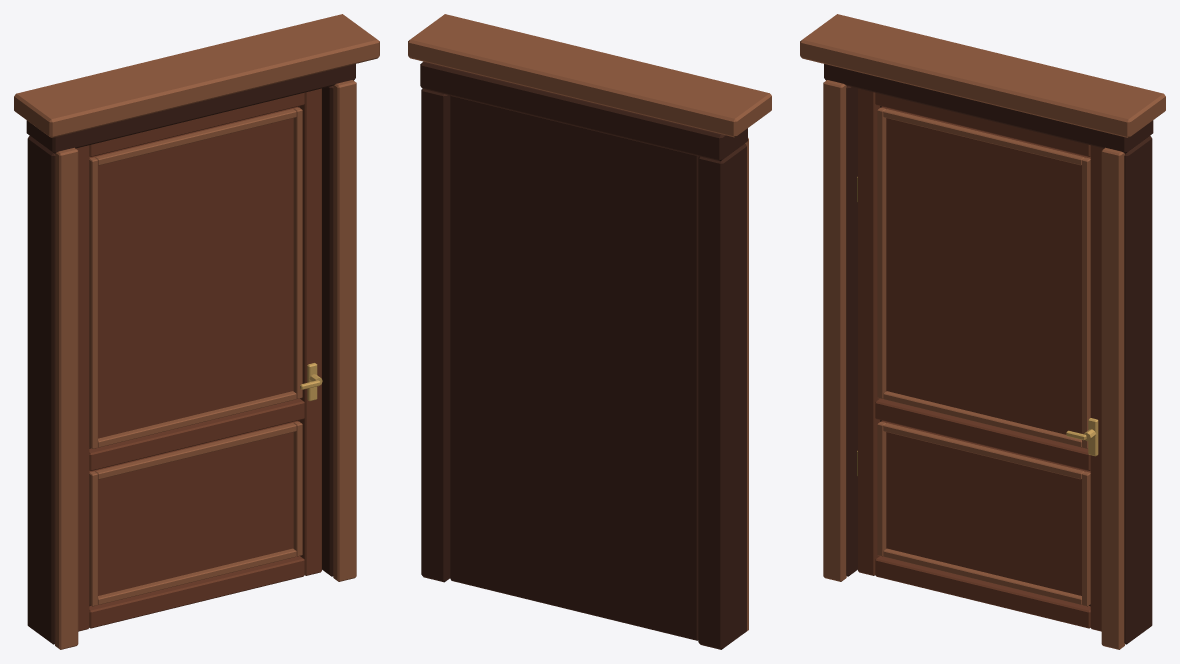
File: door_17.glb
3 views of the same model, side by side, from view 1: azimuth 30°, elevation 25°; view 2: azimuth 150°, elevation 25°; view 3: azimuth 330°, elevation 25° (orthographic).
Parts seen in each view (by area): view 1: Panel_0_1_Field, Panel_0_0_Field, Cornice, Jamb__1, Jamb_moulding_1, Jamb_moulding__1, Leaf_stile_0_1, Jamb_1, Leaf_stile_0__1, Lintel, Leaf_crossrail_0_0_88, Leaf_crossrail_0_0_048 (+9 smaller); view 2: Leaf_0, Jamb__1, Cornice, Jamb_1, Lintel, Jamb_moulding__1; view 3: Panel_0_1_Field, Panel_0_0_Field, Cornice, Jamb_1, Jamb_moulding__1, Jamb_moulding_1, Leaf_stile_0__1, Jamb__1, Leaf_stile_0_1, Lintel, Leaf_crossrail_0_0_048, Leaf_crossrail_0_0_88 (+9 smaller).
Part boxes in pixels (x1,y1,x2,y2): Panel_0_1_Field: (89, 106, 298, 438); Panel_0_0_Field: (89, 420, 298, 595); Cornice: (14, 14, 379, 137); Jamb__1: (27, 136, 55, 644); Jamb_moulding_1: (333, 80, 356, 581); Jamb_moulding__1: (55, 147, 78, 649); Leaf_stile_0_1: (300, 88, 321, 575); Jamb_1: (322, 86, 333, 576); Leaf_stile_0__1: (76, 145, 89, 631); Lintel: (26, 64, 355, 153); Leaf_crossrail_0_0_88: (89, 398, 304, 470); Leaf_crossrail_0_0_048: (89, 556, 304, 628); Leaf_0: (450, 95, 698, 640); Jamb__1: (698, 143, 746, 649); Cornice: (408, 14, 771, 137); Jamb_1: (421, 89, 450, 582); Lintel: (420, 61, 747, 161); Jamb_moulding__1: (745, 138, 748, 632); Panel_0_1_Field: (881, 106, 1090, 434); Panel_0_0_Field: (881, 420, 1090, 595); Cornice: (800, 14, 1165, 137); Jamb_1: (1124, 136, 1152, 644); Jamb_moulding__1: (823, 80, 846, 581); Jamb_moulding_1: (1101, 147, 1124, 649); Leaf_stile_0__1: (858, 88, 879, 575); Jamb__1: (846, 86, 857, 576); Leaf_stile_0_1: (1090, 145, 1103, 631); Lintel: (824, 64, 1153, 153); Leaf_crossrail_0_0_048: (875, 556, 1090, 628); Leaf_crossrail_0_0_88: (875, 398, 1090, 470).
Bounding box in the file's own units: 1.83 × 2.85 × 0.37.
